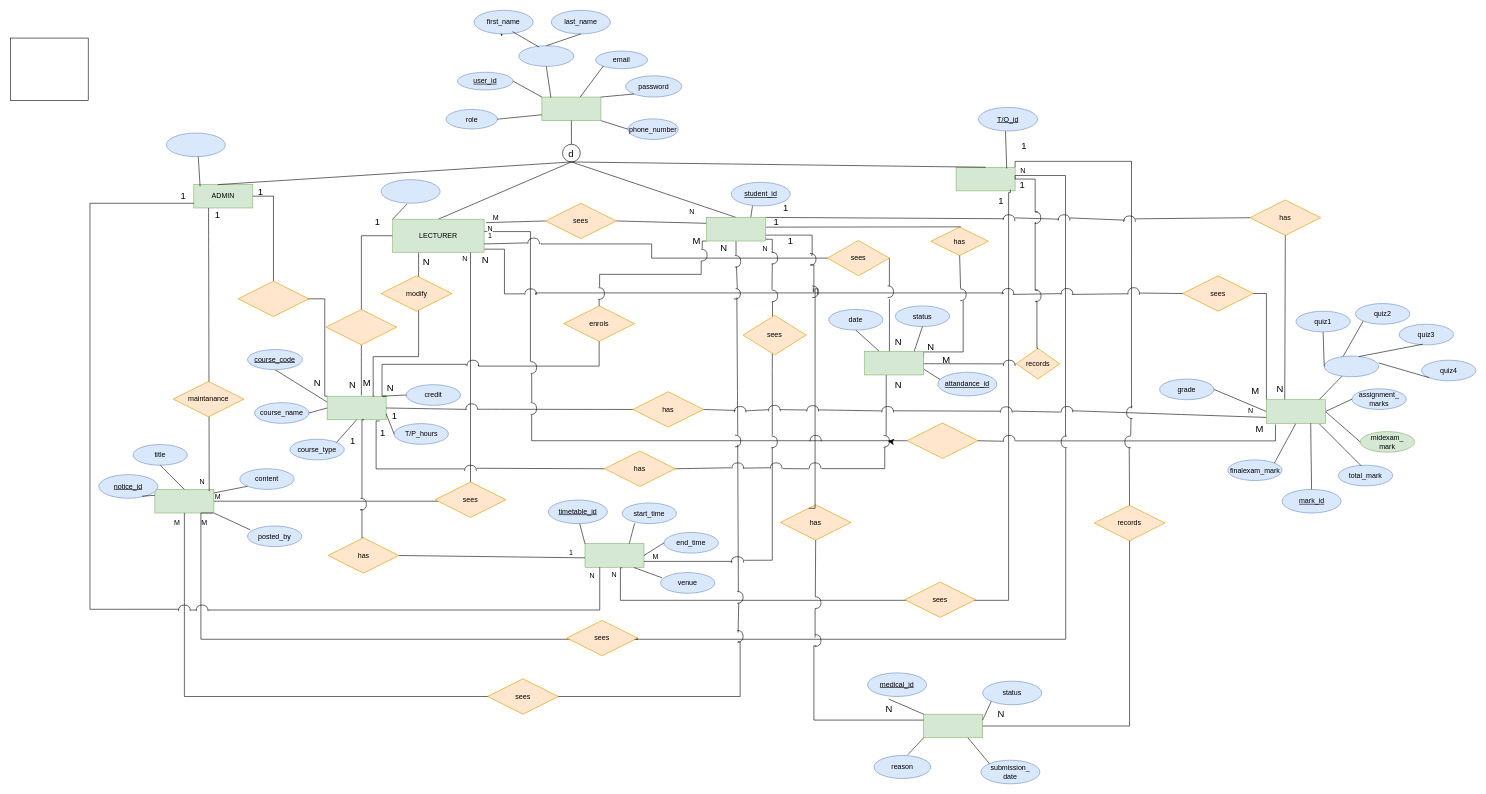
The diagram is 1486 pixels wide and 794 high, and some of its shapes have lost their labels. Here are the shapes that lost their labels. From the top down, the centre of each, then its label:
[49,69]: TG/1388 TG/1397 TG/1349 TG/1343
[546,55]: name
[571,108]: USER
[195,144]: admin_id
[410,191]: lecture_id
[985,179]: T/O_OFFICER
[736,229]: STUDENT
[273,299]: maintain
[361,327]: teaches
[894,363]: ATTANDANCE
[1351,366]: quiz
[356,408]: COURSE
[1295,411]: MARK
[942,440]: uploads
[184,501]: NOTICE
[614,555]: TIME_TABLE
[953,726]: MEDICAL
